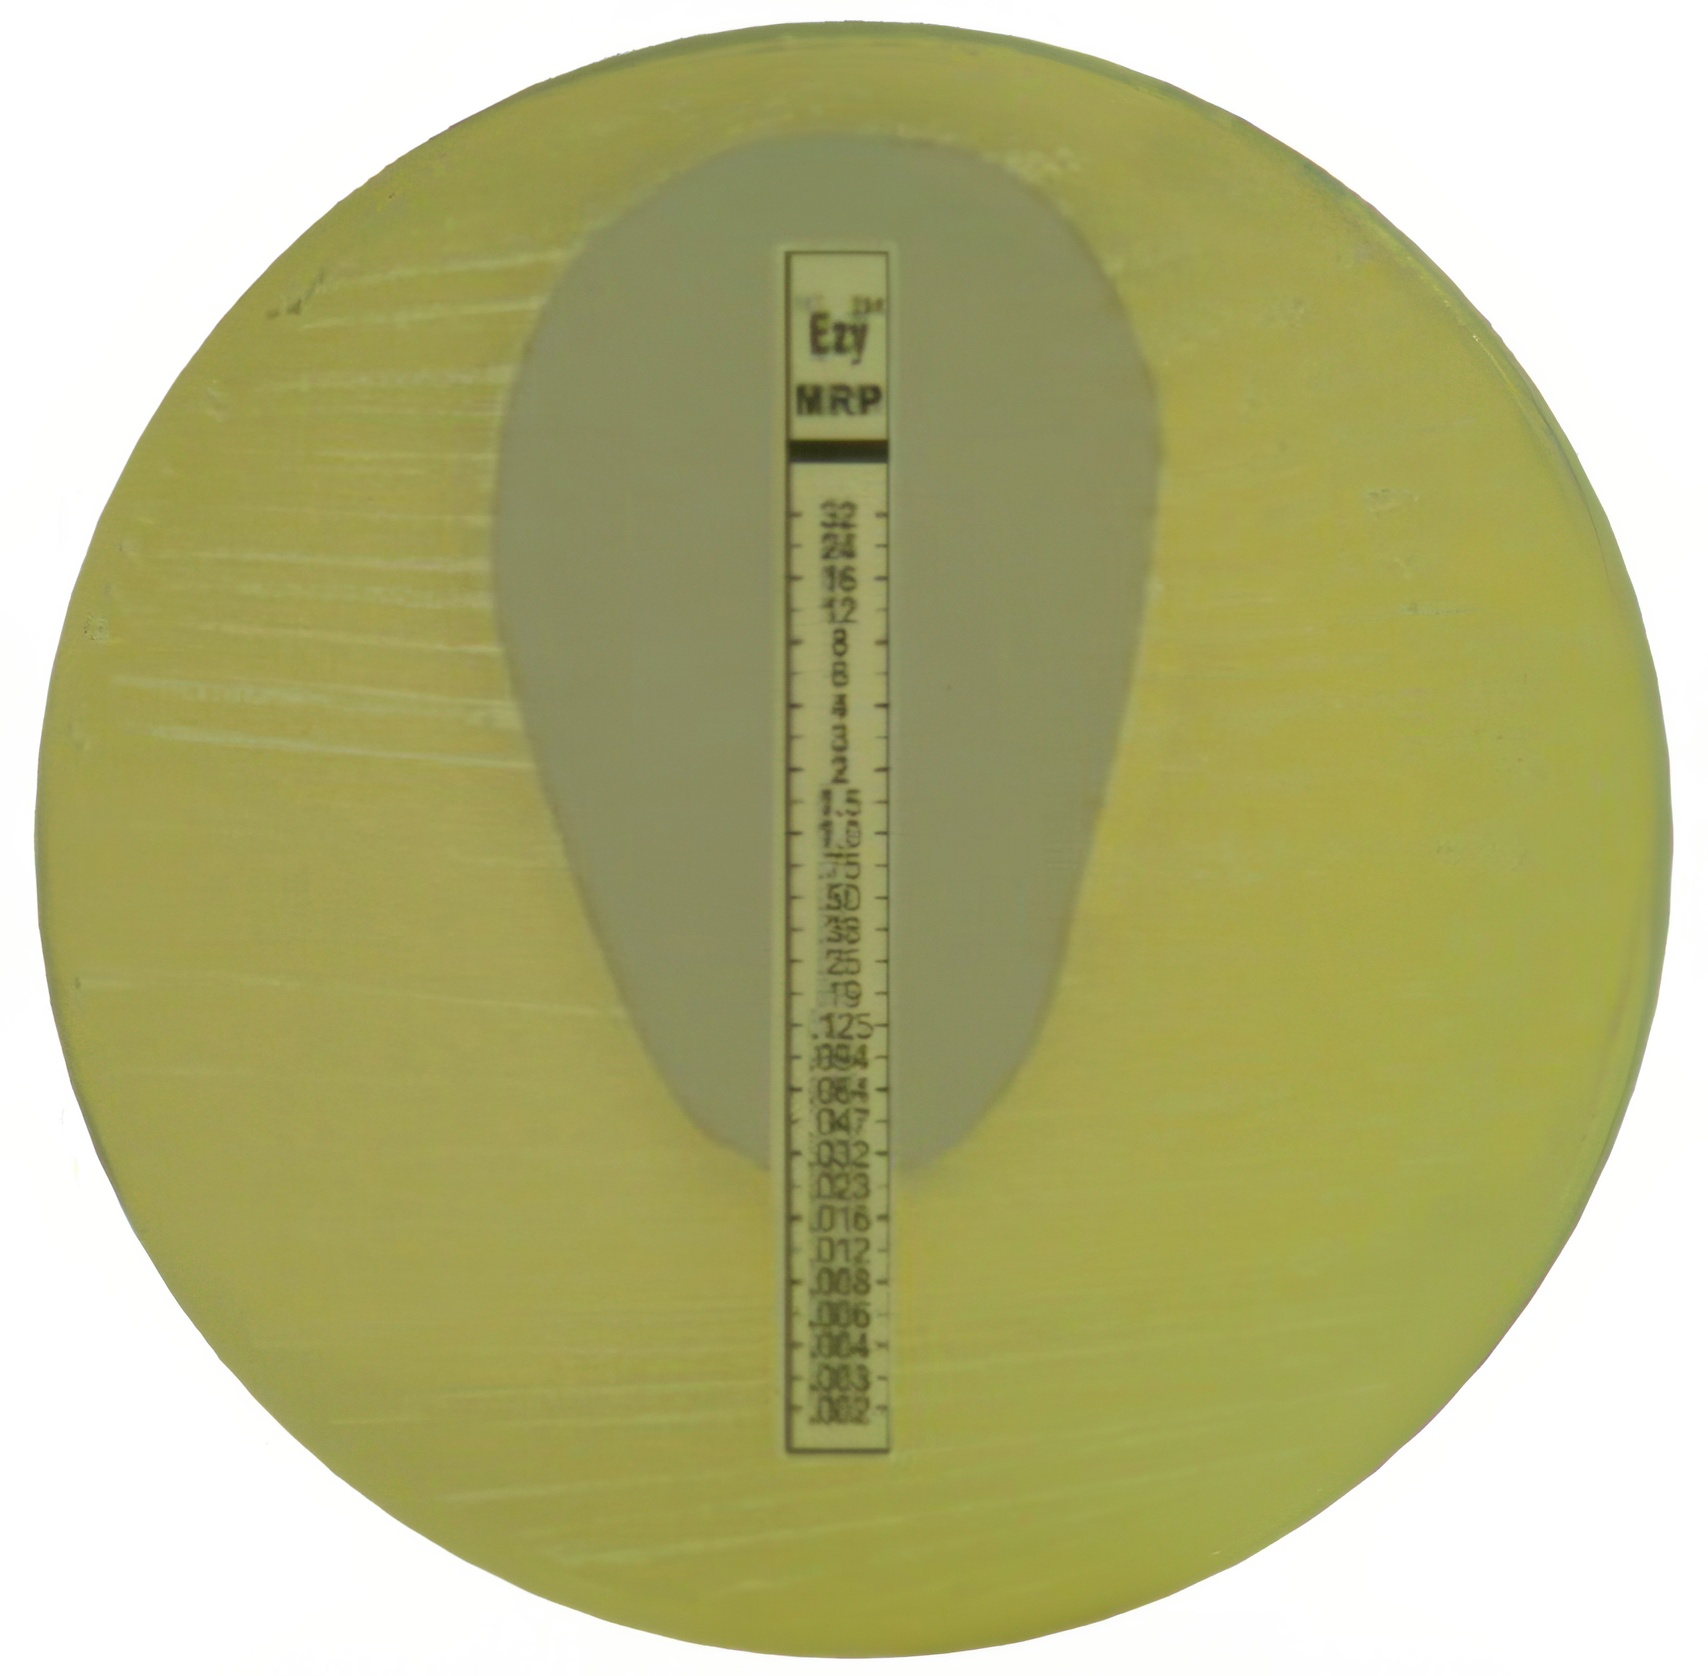line: (775, 236, 901, 1461)
zone: (496, 134, 1159, 1168)
